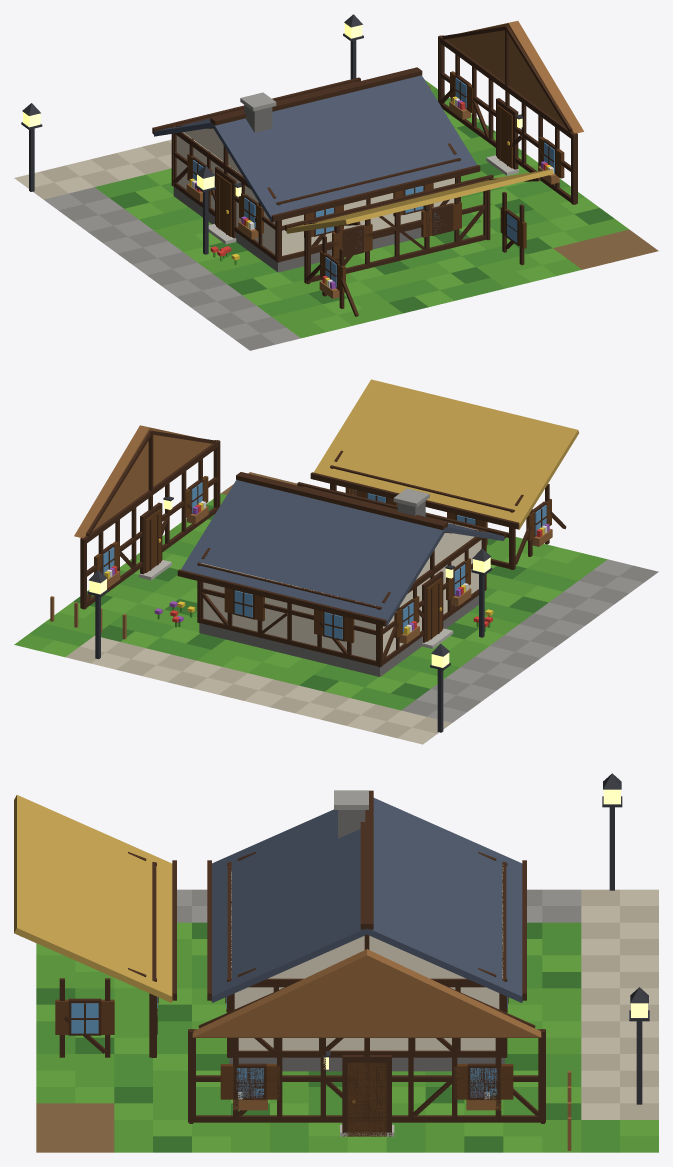
File: chunk_6_12.glb
3 views of the same model, one above another, from view 1: azimuth 30°, elevation 25°; view 2: azimuth 150°, elevation 25°; view 3: azimuth 270°, elevation 25° (orthographic). The views are drawn at different scales.
Visible parts, largest first — view 1: chunk_6_12; view 2: chunk_6_12; view 3: chunk_6_12.
Boxes of the visible parts, left/top/right/bottom form: chunk_6_12: left=14, top=14, right=658, bottom=350; chunk_6_12: left=14, top=379, right=658, bottom=744; chunk_6_12: left=14, top=773, right=658, bottom=1152.
Size of the model in its own units: 16.26 by 5.32 by 16.57.
